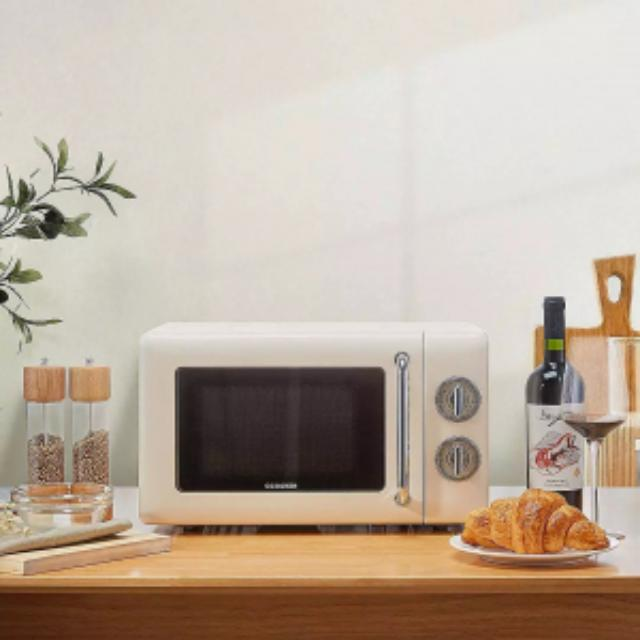Microwave: (138, 320, 494, 532)
